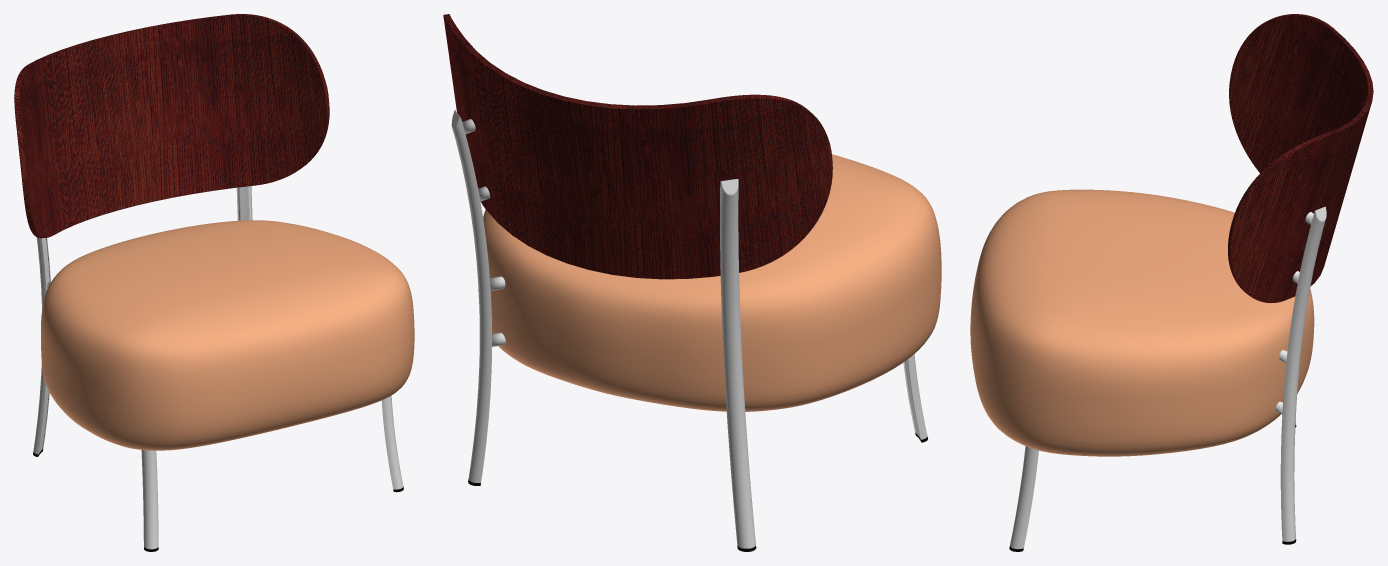
The model's file is chair4.glb.
The picture shows the model from 3 angles, left to right: view 1: azimuth 30°, elevation 25°; view 2: azimuth 150°, elevation 25°; view 3: azimuth 270°, elevation 25°; orthographic projection. The views are drawn at different scales.
Visible parts, largest first — view 1: de_padova_bistro_obj; view 2: de_padova_bistro_obj; view 3: de_padova_bistro_obj.
Boxes of the visible parts, x1,y1,x2,y2 form: de_padova_bistro_obj: (14, 14, 414, 551); de_padova_bistro_obj: (443, 14, 941, 551); de_padova_bistro_obj: (970, 14, 1373, 551).
Size of the model in its own units: 0.5339 by 0.5943 by 0.5338.
Materials: 4 (1 with a texture image).
